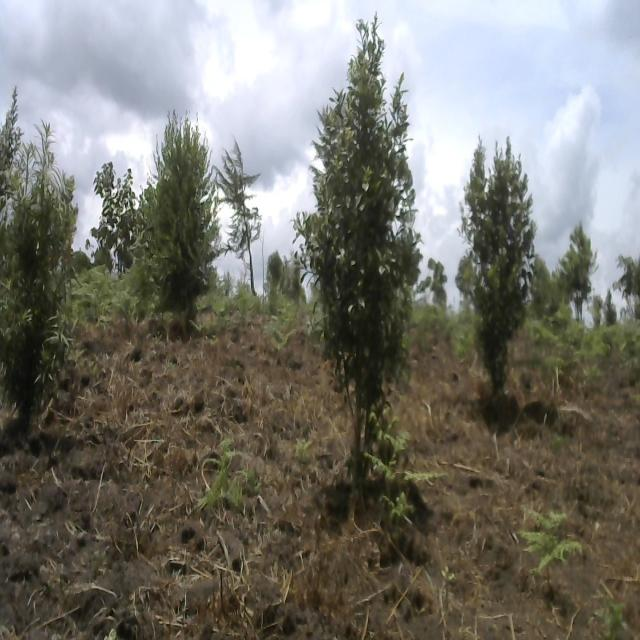Olea europea -africana-: (142, 110, 219, 330)
Podocarpus falcatus: (0, 119, 77, 407)
Prunus Africana: (296, 23, 421, 489), (465, 121, 537, 396)
